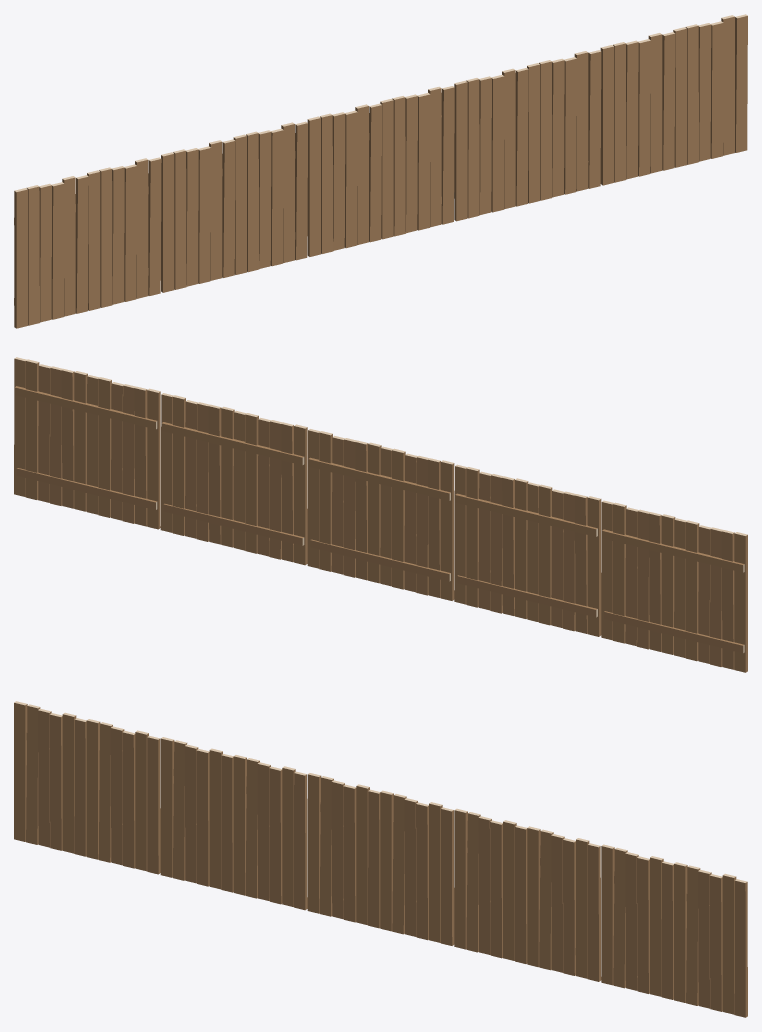
Rendered from SM_garden_fence_long.fbx.
3 views of the same model, one above another, from view 1: azimuth 30°, elevation 25°; view 2: azimuth 150°, elevation 25°; view 3: azimuth 330°, elevation 25° (orthographic).
Parts seen in each view (by area): view 1: Box5970; view 2: Box5970; view 3: Box5970.
Part boxes in pixels (<box>): Box5970: <box>14,14,747,328</box>; Box5970: <box>14,357,747,672</box>; Box5970: <box>14,701,747,1017</box>.
Bounding box in the file's own units: 456 × 81.28 × 4.55.
